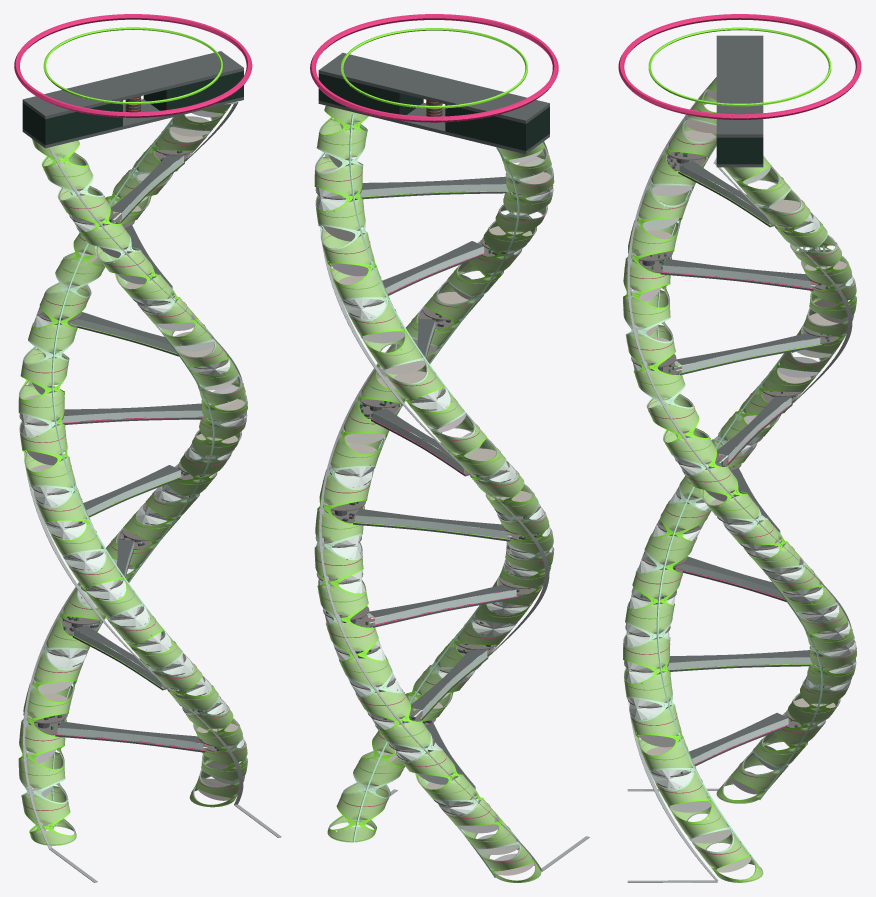
File: solace_compound.glb
3 views of the same model, side by side, from view 1: azimuth 30°, elevation 25°; view 2: azimuth 150°, elevation 25°; view 3: azimuth 270°, elevation 25° (orthographic). The views are drawn at different scales.
Visible parts, largest first — view 1: hq_solace_skin, hq_solace_neon, hq_solace_glass, hq_solace_porc, hq_solace_office, hq_solace_win, hq_solace_metal; view 2: hq_solace_skin, hq_solace_neon, hq_solace_glass, hq_solace_porc, hq_solace_office, hq_solace_win, hq_solace_metal; view 3: hq_solace_skin, hq_solace_neon, hq_solace_glass, hq_solace_porc, hq_solace_office, hq_solace_win, hq_solace_metal.
Part boxes in pixels (x1,y1,x2,y2): hq_solace_skin: [18, 104, 247, 845]; hq_solace_neon: [14, 14, 252, 845]; hq_solace_glass: [20, 71, 246, 750]; hq_solace_porc: [19, 51, 247, 834]; hq_solace_office: [19, 130, 246, 752]; hq_solace_win: [27, 110, 239, 830]; hq_solace_metal: [23, 96, 281, 882]; hq_solace_skin: [314, 105, 553, 882]; hq_solace_neon: [310, 14, 558, 882]; hq_solace_glass: [316, 73, 553, 815]; hq_solace_porc: [315, 52, 553, 880]; hq_solace_office: [315, 168, 553, 815]; hq_solace_win: [323, 122, 544, 875]; hq_solace_metal: [319, 99, 589, 871]; hq_solace_skin: [623, 77, 856, 882]; hq_solace_neon: [618, 14, 861, 882]; hq_solace_glass: [624, 137, 855, 789]; hq_solace_porc: [623, 35, 856, 877]; hq_solace_office: [624, 130, 855, 787]; hq_solace_win: [632, 89, 848, 872]; hq_solace_metal: [627, 79, 852, 882].
Bounding box in the file's own units: 24.68 × 86.45 × 24.68.
